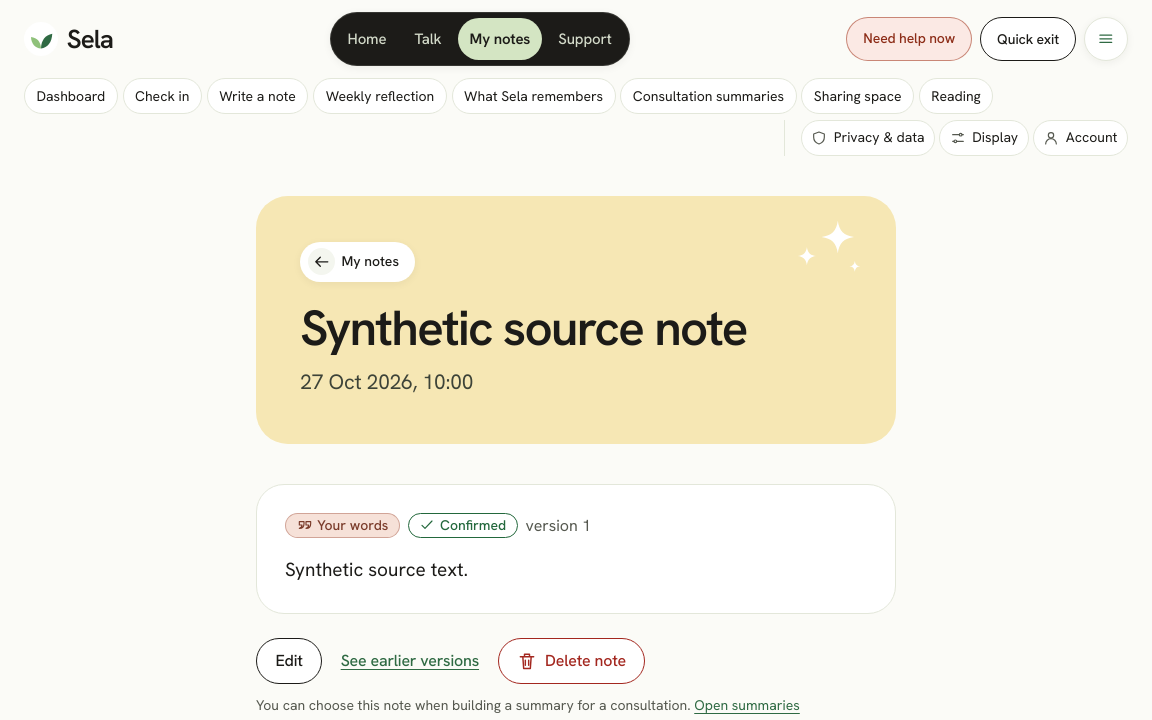
Test case: home, notes and conversations › shows the derived choice in English
Click the button "Delete note" at (571, 661), box top-left (498, 638), bottom-right (645, 684)
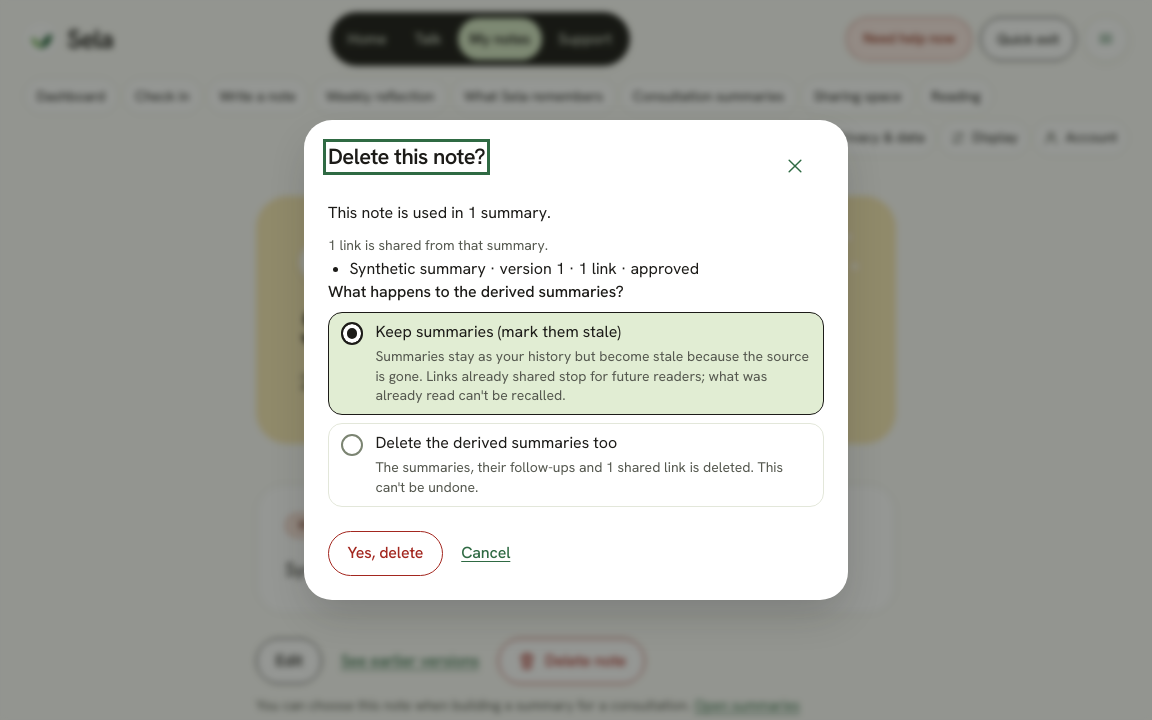
Now the text "This note is used in 1 summary." is shown, box top-left (328, 202), bottom-right (551, 223)
Now the text "1 link is shared from that summary." is shown, box top-left (328, 236), bottom-right (548, 254)
Now the radio button labelled "Keep summaries (mark them stale)" is checked, box top-left (328, 312), bottom-right (824, 415)
